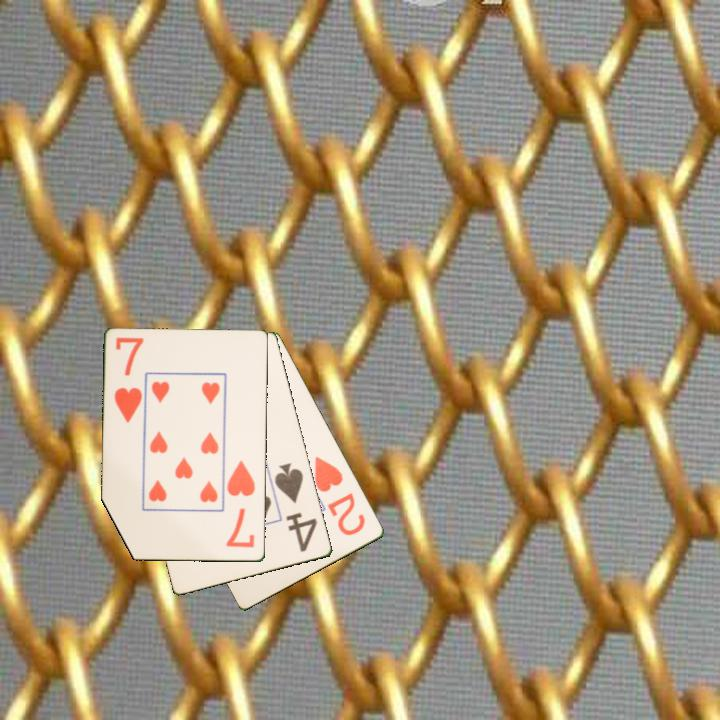2h: (311, 453, 368, 539)
4s: (271, 459, 320, 555)
7h: (223, 457, 258, 550), (111, 334, 146, 426)
